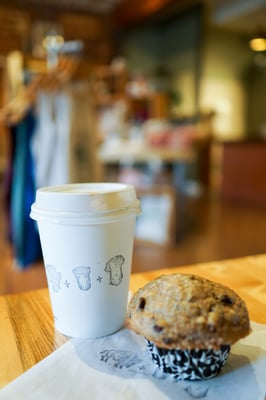pizza: (29, 182, 141, 340)
